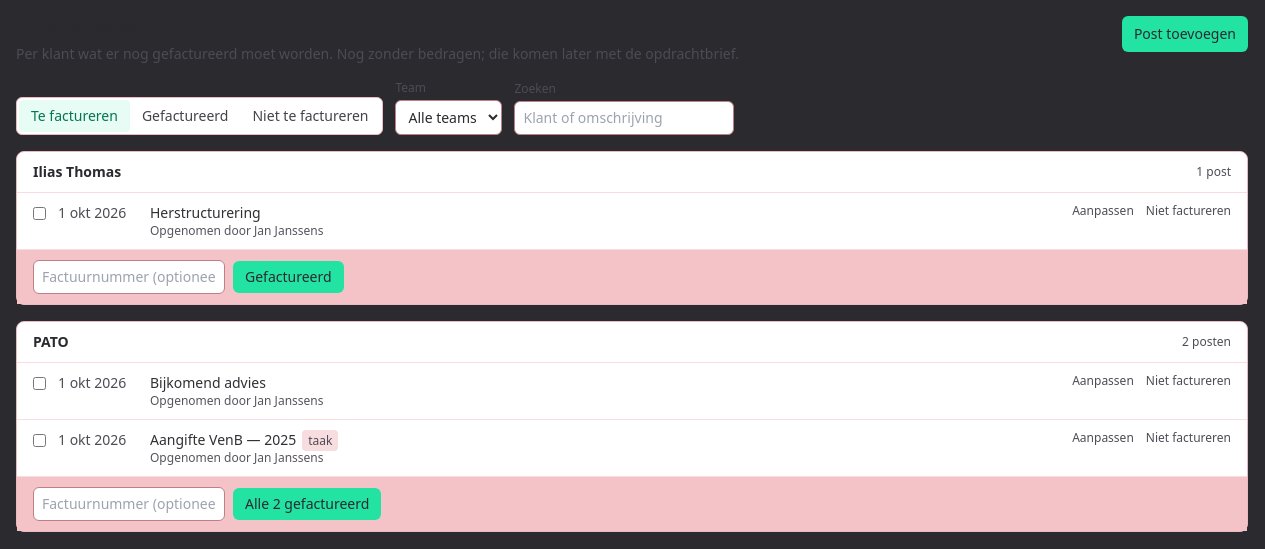
TeFacturerenPage › toont bij afgehandelde posten wie het deed en het factuurnummer
Check: the element "PATO" is shown, box x1=16 y1=321 x2=1248 y2=532
Click the tab "Gefactureerd": {"x": 185, "y": 116} x1=130 y1=100 x2=240 y2=132
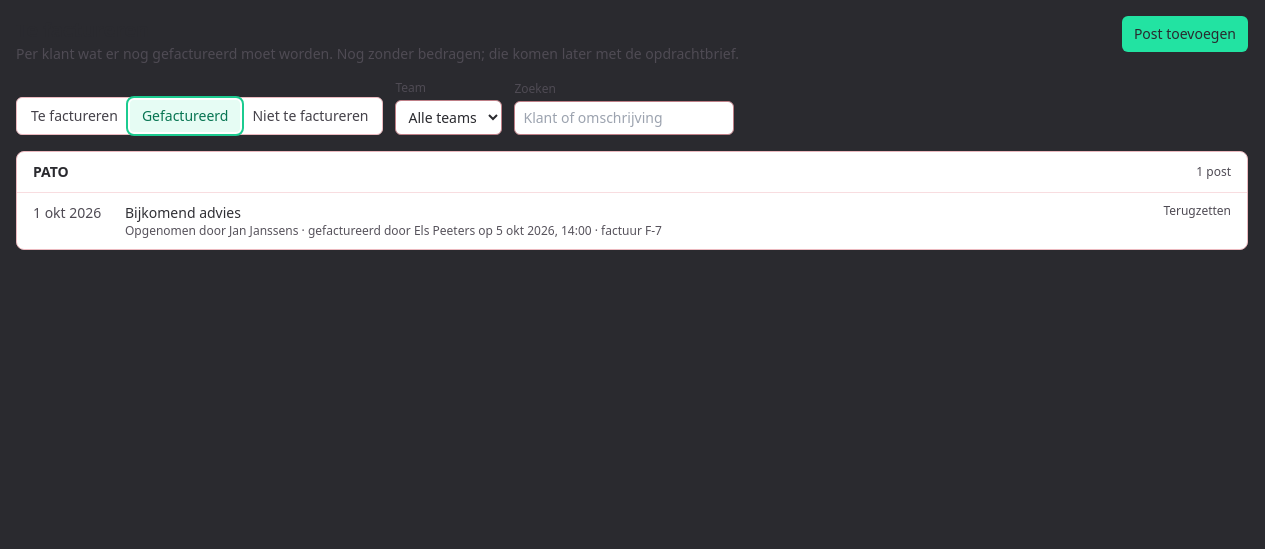
Check: the text "gefactureerd door Els Peeters" shows "factuur F-7", box x1=592 y1=222 x2=662 y2=239
Check: the button "Terugzetten" is shown, box x1=1163 y1=203 x2=1231 y2=219
